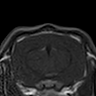Brain: (15, 36, 82, 84)
